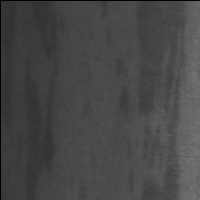inclusion: (136, 1, 184, 200), (19, 3, 58, 199), (108, 53, 130, 124), (80, 95, 96, 126)
